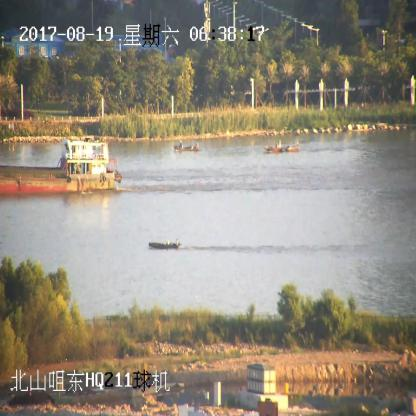Fishing Boat: (265, 141, 300, 154), (149, 238, 179, 250), (176, 141, 200, 153)
